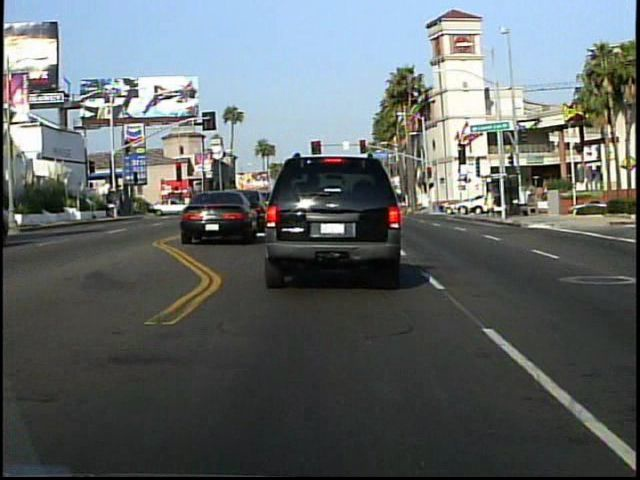person: (484, 186, 497, 219)
